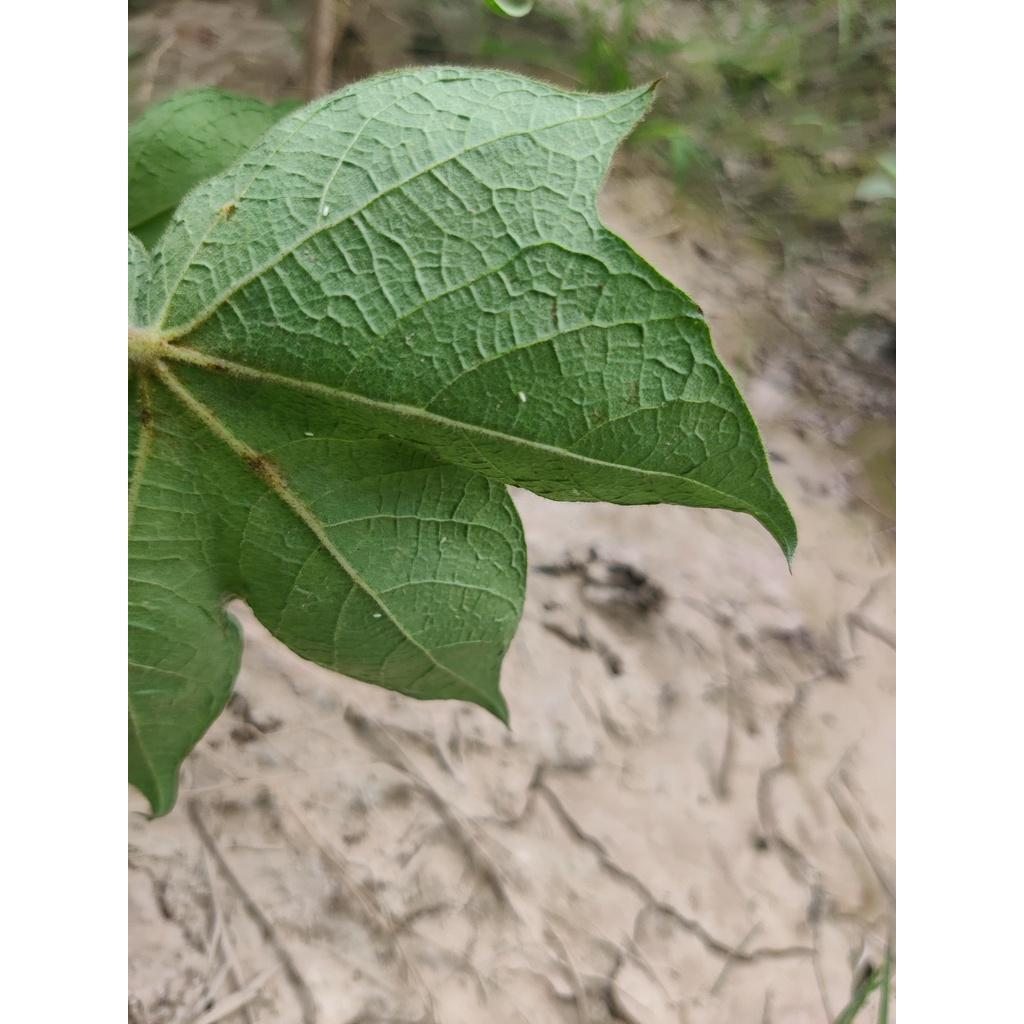adult: (517, 391, 527, 403), (572, 487, 581, 497), (322, 205, 330, 216), (373, 612, 382, 619), (304, 431, 314, 437), (439, 537, 447, 544)
